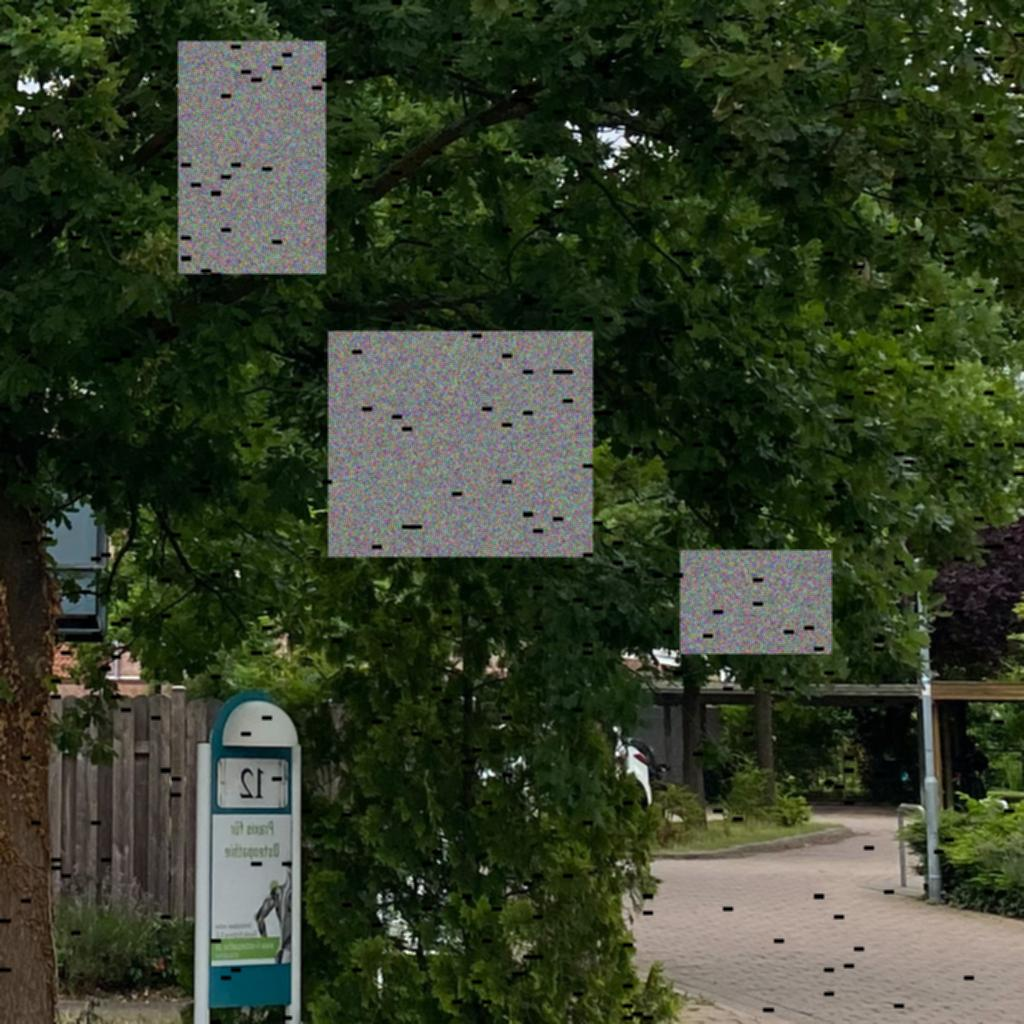tree: (1, 1, 1023, 1023), (900, 521, 1024, 808), (722, 633, 849, 803), (673, 654, 721, 829)
